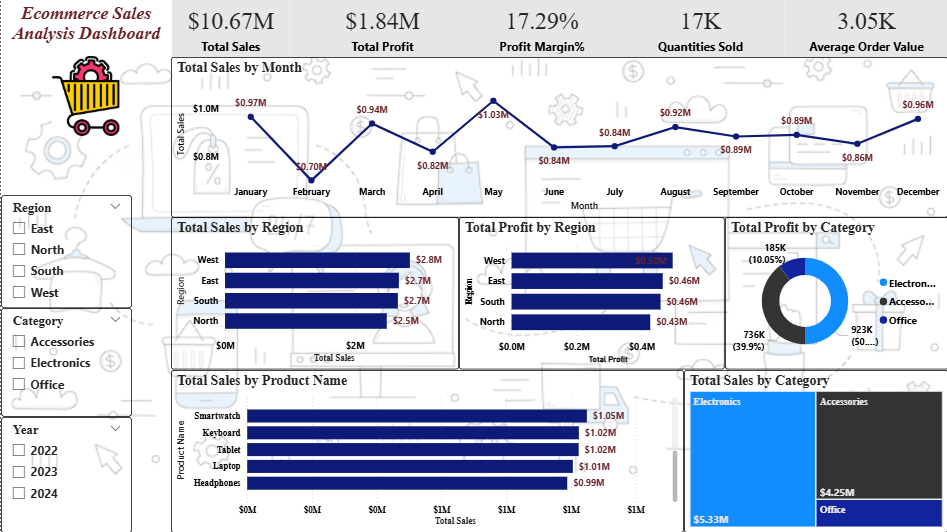

Layout of this report page (visuals, bound fields, positions):
{"tool":"powerbi","page":{"name":"Page 1","canvas":[1280,720],"ordinal":0},"visuals":[{"type":"card","fields":{"Values":["sales ecomsales.Profit Margin%"]},"box":[631.7,0,200,76.7],"z":0},{"type":"card","fields":{"Values":["sales ecomsales.total sales"]},"box":[231,0,158.7,76.5],"z":1},{"type":"card","fields":{"Values":["sales ecomsales.Total Profit"]},"box":[390,0,250,76.7],"z":2},{"type":"card","fields":{"Values":["sales ecomsales.Quantities Sold"]},"box":[831.7,0,228.3,76.7],"z":3},{"type":"card","fields":{"Values":["sales ecomsales.Average Order Value"]},"box":[1060,0,220,76.7],"z":4},{"type":"barChart","fields":{"Category":["sales ecomsales.product_name"],"Y":["sales ecomsales.Total Sales"]},"box":[229.6,500.3,693.1,219.7],"z":5},{"type":"donutChart","fields":{"Category":["sales ecomsales.category"],"Y":["sales ecomsales.Total Profit"]},"box":[977.8,293.8,302.4,205.9],"z":6},{"type":"lineChart","fields":{"Category":["sales ecomsales.orderdate.Variation.Date Hierarchy.Month"],"Y":["sales ecomsales.Total Sales"]},"box":[229.6,76.5,1050.2,216.9],"z":7},{"type":"treemap","fields":{"Group":["sales ecomsales.category"],"Values":["sales ecomsales.Total Sales"]},"box":[923,499.7,357.1,220.3],"z":8},{"type":"clusteredBarChart","fields":{"Category":["sales ecomsales.region"],"Y":["sales ecomsales.Total Sales"]},"box":[230.4,293.8,388.8,205.9],"z":9},{"type":"slicer","fields":{"Values":["sales ecomsales.category"]},"box":[0,416.2,177.1,146.9],"z":10},{"type":"slicer","fields":{"Values":["sales ecomsales.orderdate.Variation.Date Hierarchy.Year"]},"box":[0,563,177.1,157],"z":11},{"type":"slicer","fields":{"Values":["sales ecomsales.region"]},"box":[0,263.3,176.7,153.3],"z":12},{"type":"barChart","fields":{"Category":["sales ecomsales.Region"],"Y":["sales ecomsales.Total Profit"]},"box":[619.2,293.8,358.6,205.9],"z":13},{"type":"textbox","box":[0,0,230.4,76.3],"z":14},{"type":"image","box":[0,76.3,229,108],"z":15}]}

Visuals, with their boxes in screenshot pixels (x1, y1, x2, y2), scaled from the page's 1280x720 canvas onto the 947x532 screenshot:
card - sales ecomsales.Profit Margin%: [467, 0, 615, 57]
card - sales ecomsales.total sales: [171, 0, 288, 57]
card - sales ecomsales.Total Profit: [289, 0, 474, 57]
card - sales ecomsales.Quantities Sold: [615, 0, 784, 57]
card - sales ecomsales.Average Order Value: [784, 0, 946, 57]
barChart - sales ecomsales.product_name x sales ecomsales.Total Sales: [170, 370, 683, 531]
donutChart - sales ecomsales.category x sales ecomsales.Total Profit: [723, 217, 946, 369]
lineChart - sales ecomsales.orderdate.Variation.Date Hierarchy.Month x sales ecomsales.Total Sales: [170, 57, 946, 217]
treemap - sales ecomsales.category x sales ecomsales.Total Sales: [683, 369, 946, 531]
clusteredBarChart - sales ecomsales.region x sales ecomsales.Total Sales: [170, 217, 458, 369]
slicer - sales ecomsales.category: [0, 308, 131, 416]
slicer - sales ecomsales.orderdate.Variation.Date Hierarchy.Year: [0, 416, 131, 531]
slicer - sales ecomsales.region: [0, 195, 131, 308]
barChart - sales ecomsales.Region x sales ecomsales.Total Profit: [458, 217, 723, 369]
textbox: [0, 0, 170, 56]
image: [0, 56, 169, 136]
